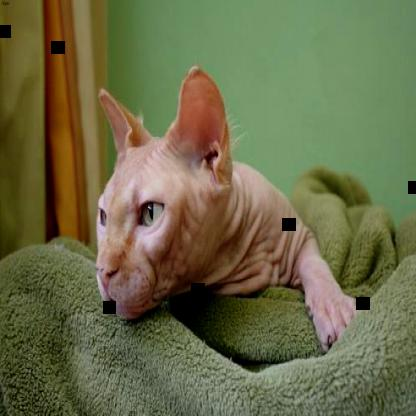cat: (95, 66, 360, 354)
